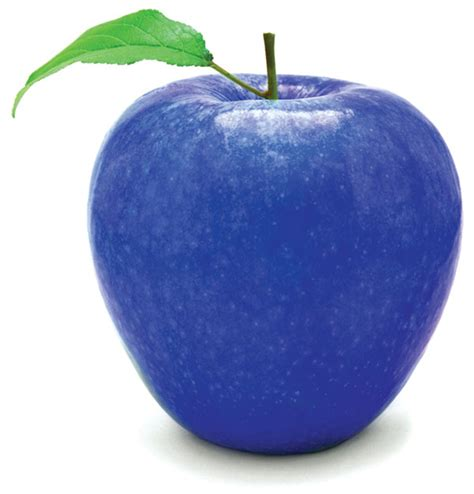apple: (83, 69, 465, 457)
